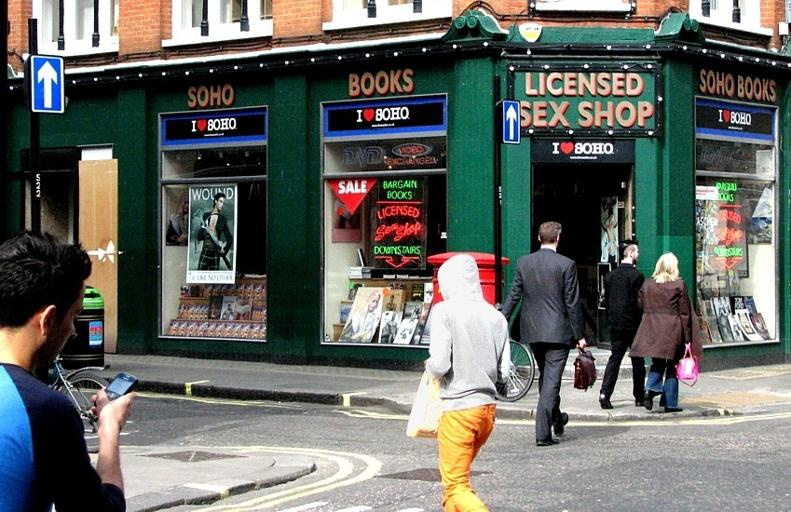non-vehicle: (44, 350, 111, 452), (492, 337, 536, 402)
